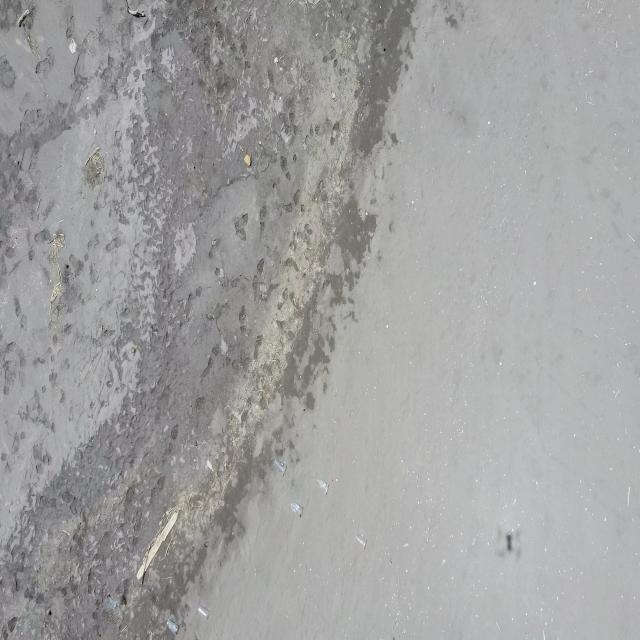takeaway-cup: (274, 458, 287, 476), (318, 478, 330, 496), (291, 502, 304, 518), (355, 534, 367, 550), (198, 605, 210, 620), (167, 620, 179, 635)
